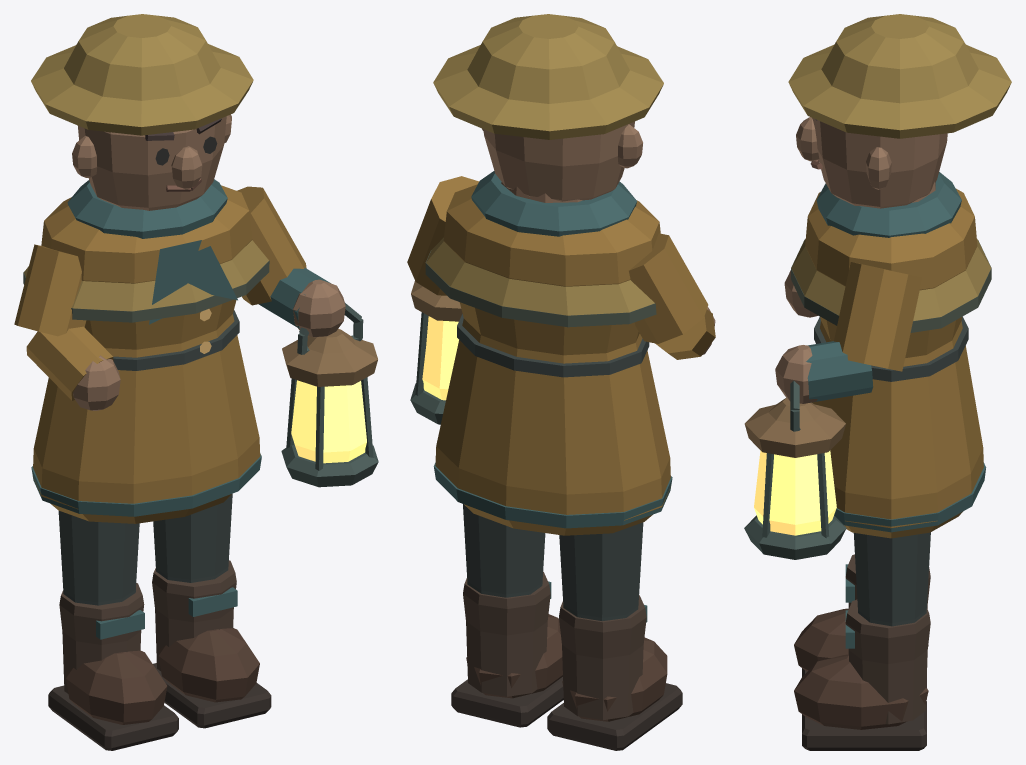
File: lamp_keeper.glb
3 renders of one model, left to right at view 1: azimuth 30°, elevation 25°; view 2: azimuth 150°, elevation 25°; view 3: azimuth 270°, elevation 25°, orthographic. The views are drawn at different scales.
Visible parts, largest first — view 1: Coat and head, Shoulder.R, Hip.L, Hip.R; view 2: Coat and head, Hip.L, Hip.R, Shoulder.R; view 3: Coat and head, Shoulder.R, Hip.R, Hip.L.
Boxes of the visible parts, bbox=[...] form: Coat and head: bbox=[14, 14, 269, 523]; Shoulder.R: bbox=[237, 186, 378, 487]; Hip.L: bbox=[48, 511, 178, 750]; Hip.R: bbox=[152, 494, 271, 728]; Coat and head: bbox=[425, 14, 715, 535]; Hip.L: bbox=[547, 522, 682, 750]; Hip.R: bbox=[451, 504, 563, 727]; Shoulder.R: bbox=[407, 176, 479, 424]; Coat and head: bbox=[784, 14, 1011, 538]; Shoulder.R: bbox=[744, 262, 922, 559]; Hip.R: bbox=[794, 532, 930, 750]; Hip.L: bbox=[794, 554, 930, 699].
Bounding box in the file's own units: 0.7189 × 1.46 × 0.5166.
